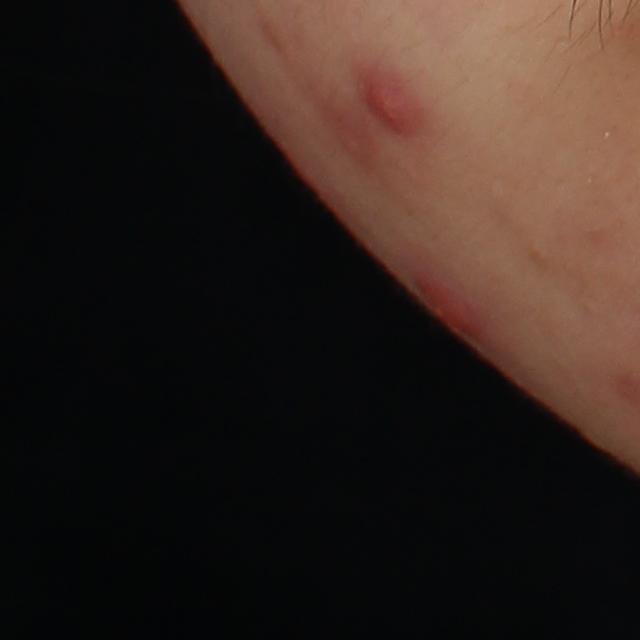papule: (355, 57, 432, 151), (424, 272, 487, 341)
